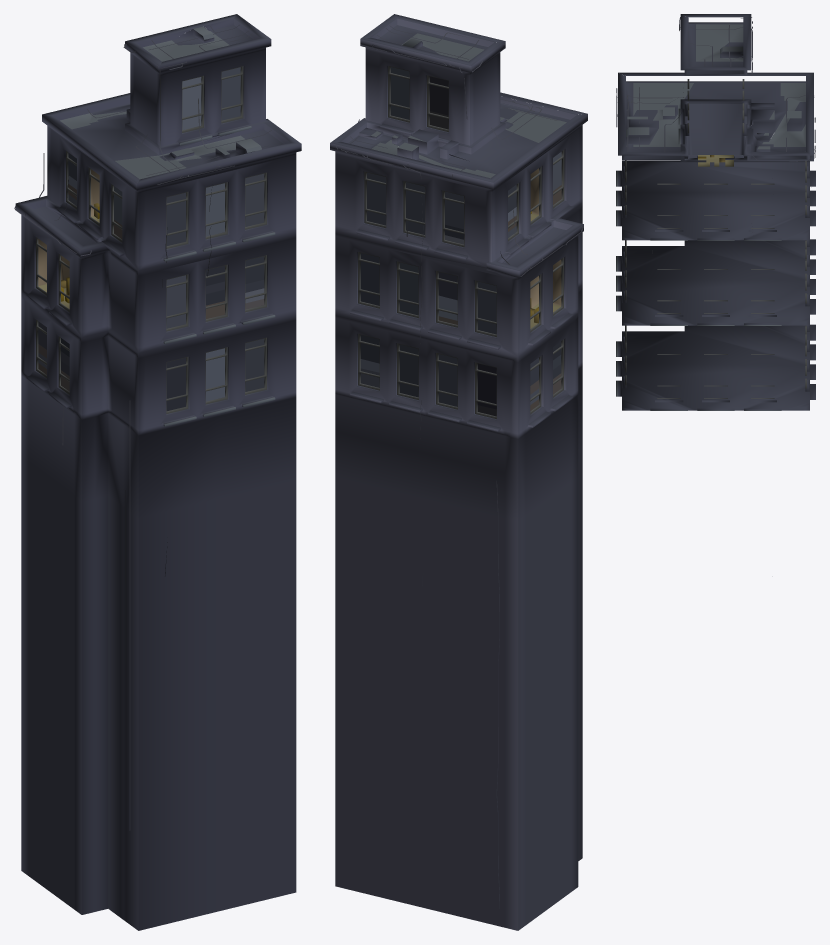
The model's file is mesh_bdg_D_06.gltf.
3 renders of one model, left to right at view 1: azimuth 30°, elevation 25°; view 2: azimuth 150°, elevation 25°; view 3: azimuth 270°, elevation 25°, orthographic. The views are drawn at different scales.
Visible parts, largest first — view 1: geo1; view 2: geo1; view 3: geo1.
Part boxes in pixels (left/top/right/bottom): geo1: left=14, top=14, right=301, bottom=930; geo1: left=330, top=14, right=587, bottom=930; geo1: left=616, top=14, right=815, bottom=410.
Bounding box in the file's own units: 7.37 × 30.32 × 6.38.
